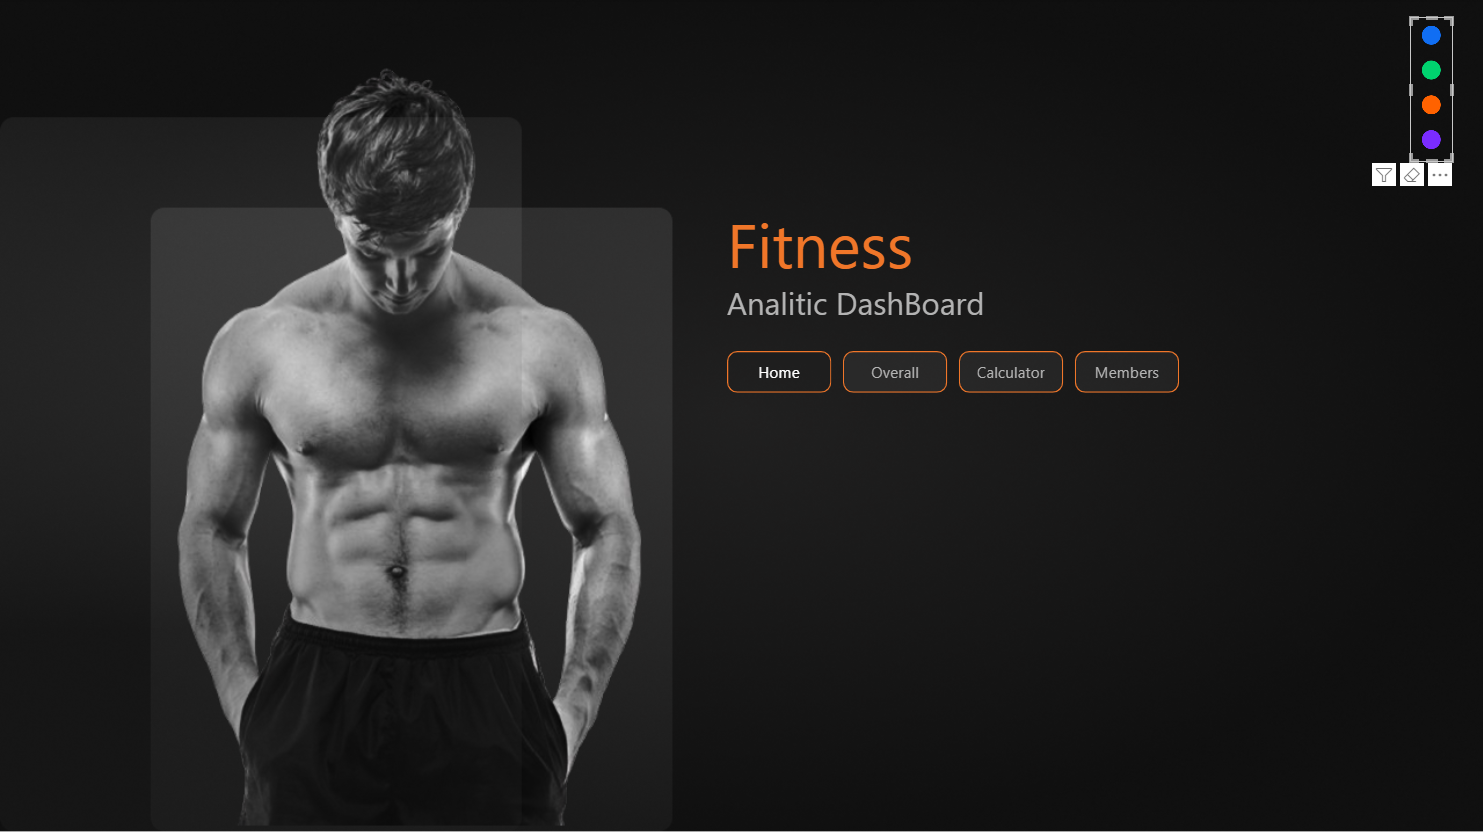

The page's visual inventory and layout, read from the dashboard file:
{"tool":"powerbi","page":{"name":"Home","canvas":[1280,720],"ordinal":0},"visuals":[{"type":"shape","box":[626.8,158.3,168.3,101.9],"z":0},{"type":"shape","box":[626.8,210.1,499.4,101.9],"z":1000},{"type":"pageNavigator","box":[626.8,303.9,393,36.4],"z":2000},{"type":"advancedSlicerVisual","fields":{"Values":["ColorCodes.Color"],"Label":["Min(ColorCodes.Icon)"]},"box":[1216.3,15.5,37.3,125.5],"z":3000}]}

Visuals, with their boxes on the page's 1280x720 design canvas (x1, y1, x2, y2). These are canvas units, not pixel positions in the 1483x833 screenshot, which may show the page scaled, cropped or inside an application window:
shape: Rect(627, 158, 795, 260)
shape: Rect(627, 210, 1126, 312)
pageNavigator: Rect(627, 304, 1020, 340)
advancedSlicerVisual - ColorCodes.Color x Min(ColorCodes.Icon): Rect(1216, 16, 1254, 141)
